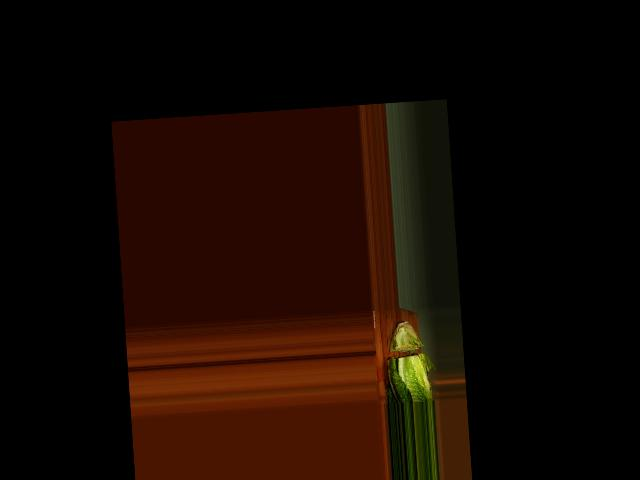lettuce: (379, 320, 435, 403)
